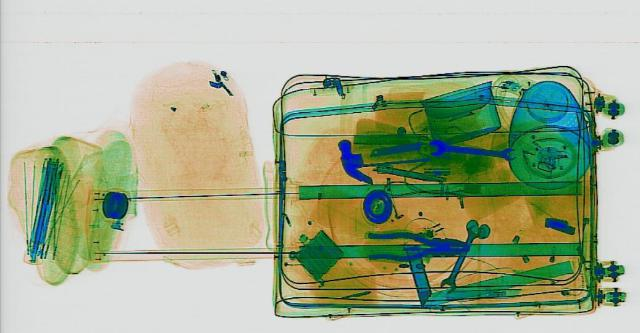Pliers: (366, 231, 469, 260)
Wrench: (436, 224, 482, 292), (425, 138, 519, 161)
